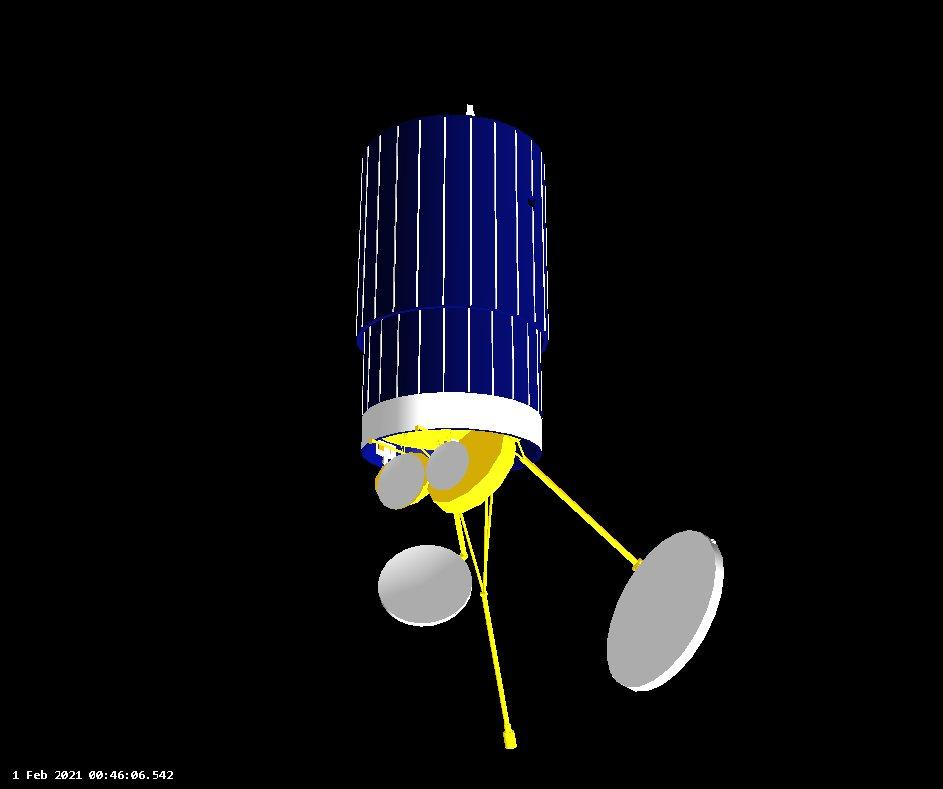antenna: (445, 499, 532, 759), (604, 525, 729, 698), (374, 543, 476, 630), (432, 423, 523, 515), (374, 450, 428, 514), (422, 439, 472, 494)
body: (344, 98, 551, 453)
solar: (355, 110, 547, 419)
